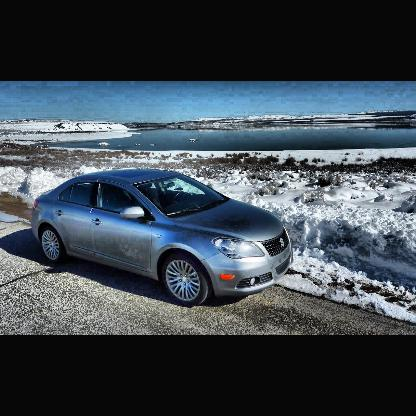Suzuki Kizashi Sedan 2012: (26, 165, 300, 308)
